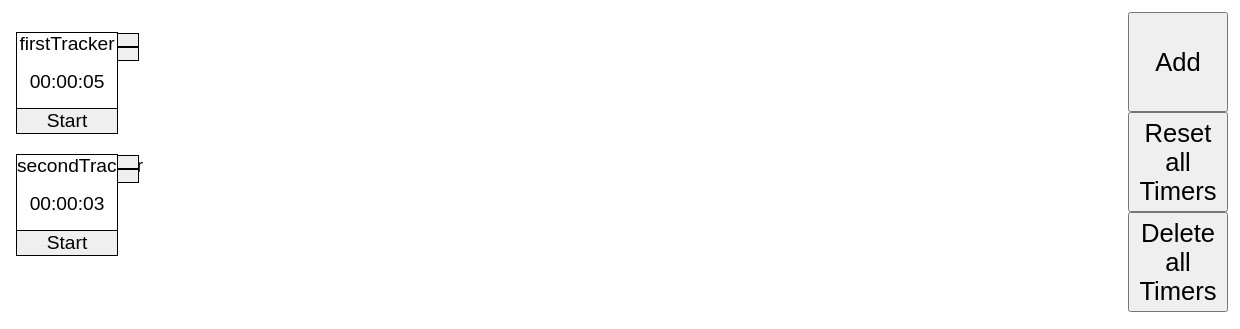
Test: The Home Page › User can edit tracker name
The image size is (1240, 329).
Click the button with test id "edit" next to "firstTracker": [128, 54] box x1=117 y1=47 x2=139 y2=61
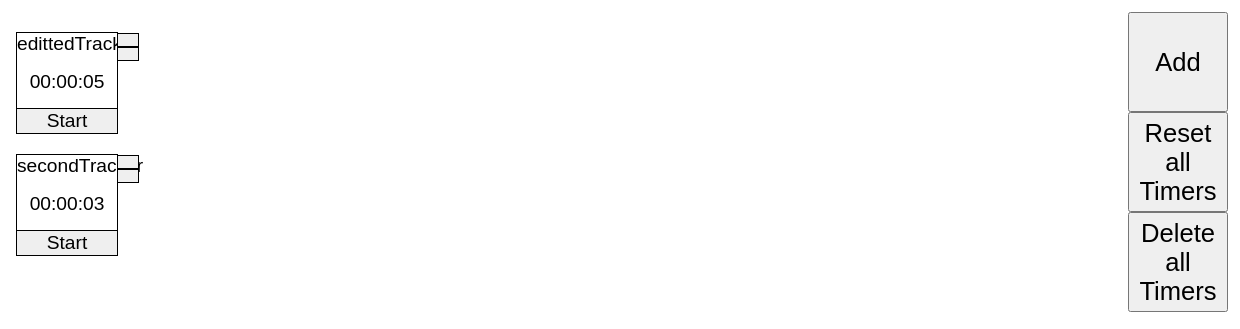
Check: the text with test id "tracker-name" reads "edittedTracker", box x1=17 y1=33 x2=117 y2=55
